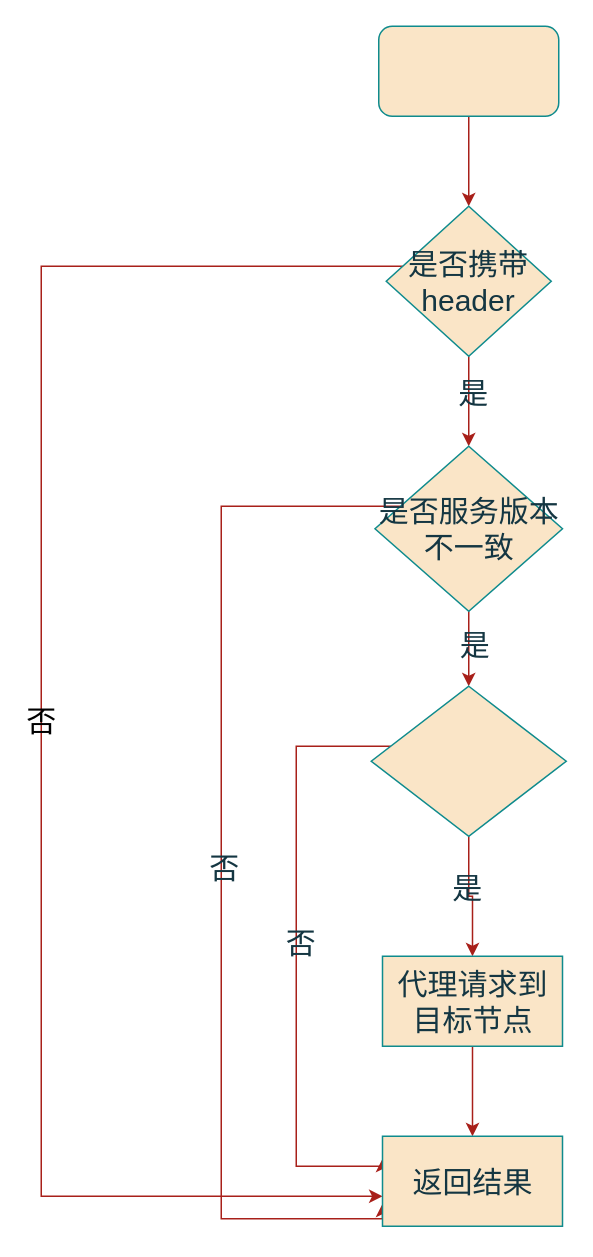
Some shapes in this 593 by 1257 pixel diagram are drawn without their labels. Each missing label, with the centre of its shape:
收到HTTP请求: pixel 468 70
是否存在目标版本: pixel 468 760
